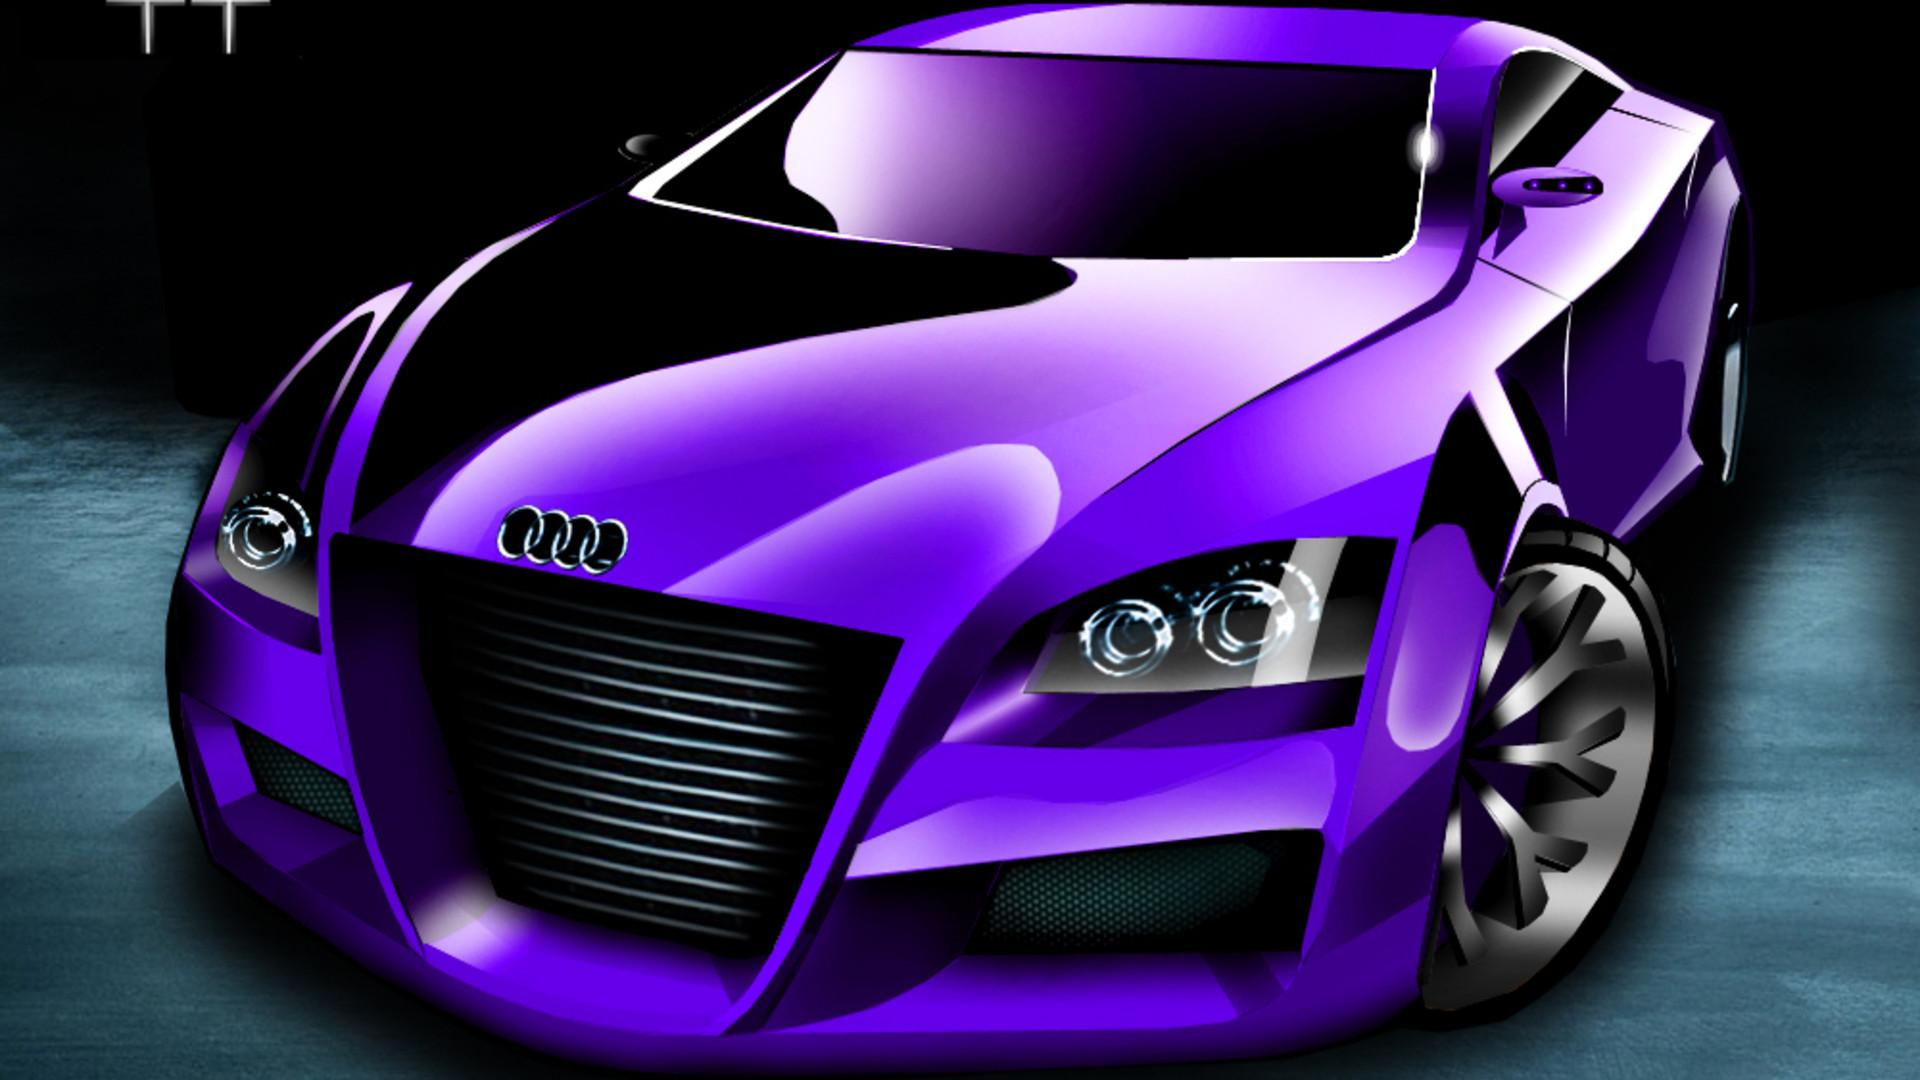Car: (148, 5, 1780, 1043)
